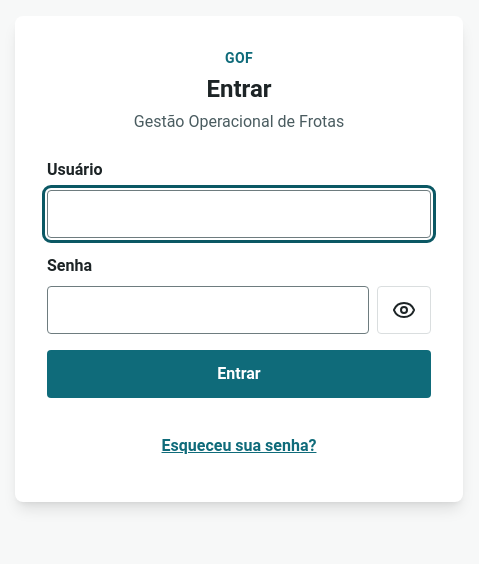
Scenario: Login › 422 genérico (e-mail digitado no lugar do usuário): mensagem no topo, sem acusar campo e sem sessão
In the field labelled "Usuário": (239, 214) x1=47 y1=190 x2=431 y2=238, type "ana@example.com"
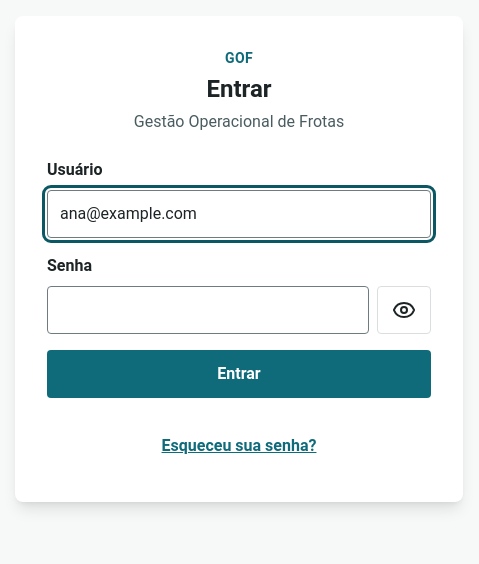
In the password field labelled "Senha": (208, 310) x1=47 y1=286 x2=369 y2=334, type "errada"
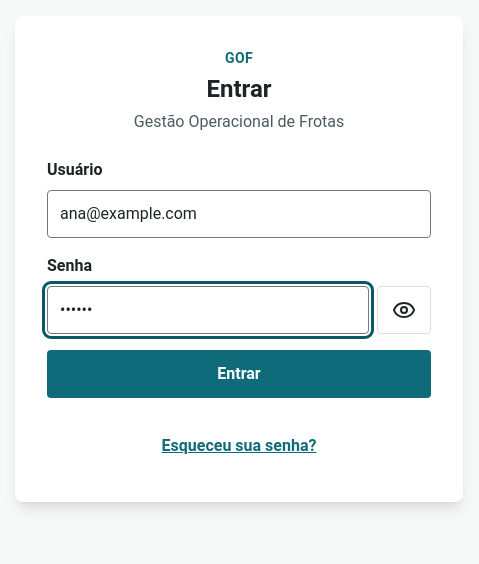
Click the button "Entrar": (239, 374) x1=47 y1=350 x2=431 y2=398
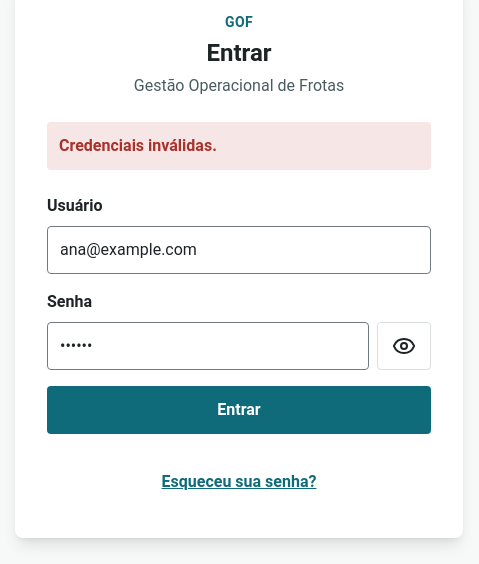
Expected: the message reads "Credenciais inválidas.", x1=59 y1=136 x2=217 y2=155
